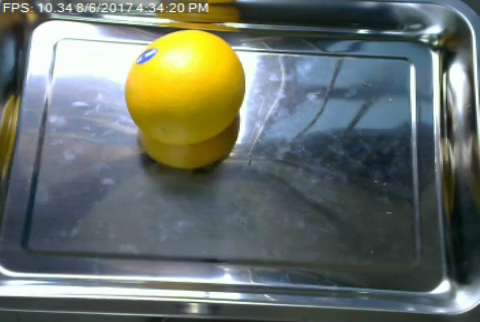Orange: (124, 28, 246, 147)
